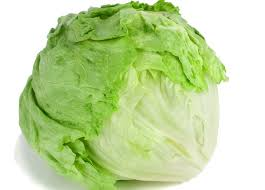lettuce: (16, 2, 217, 182)
